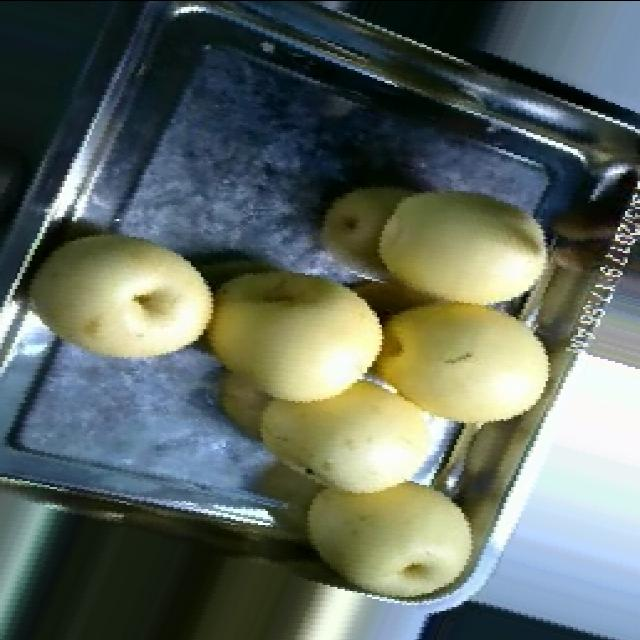Fruit: (166, 228, 404, 436), (0, 196, 238, 392), (282, 446, 498, 632), (342, 288, 572, 456), (352, 158, 586, 314)
